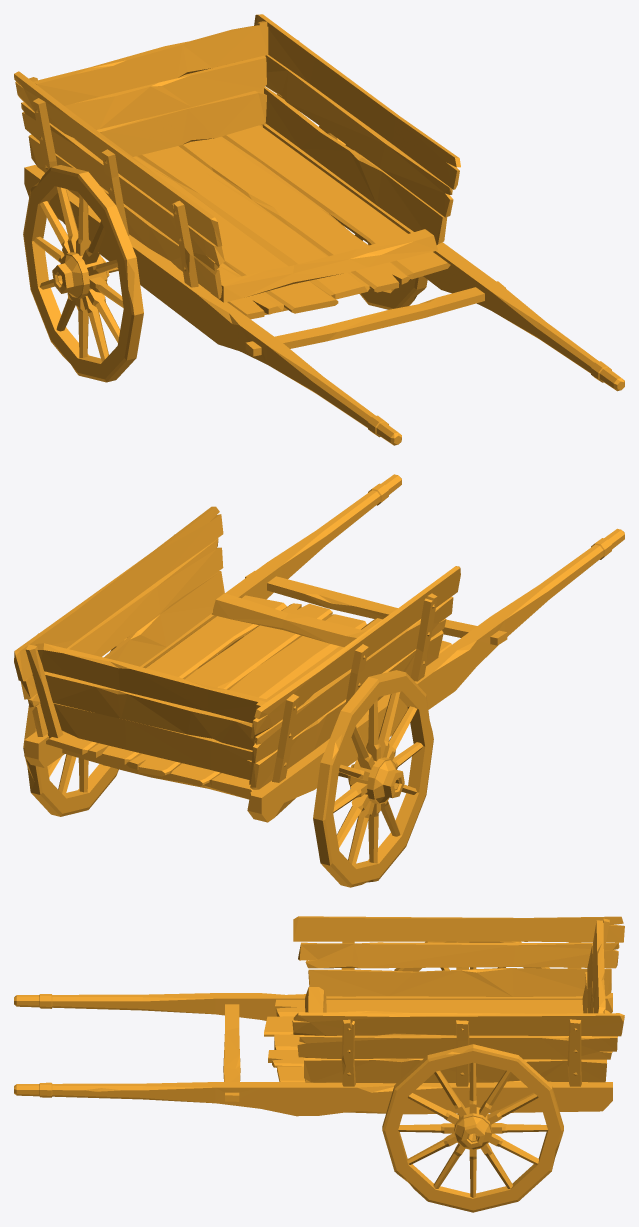
Rendered from SM_Cart_Wooden_Small_Fantasy.fbx.
The picture shows the model from 3 angles, top to bottom: view 1: azimuth 30°, elevation 25°; view 2: azimuth 150°, elevation 25°; view 3: azimuth 270°, elevation 25°; orthographic projection. The views are drawn at different scales.
Visible parts, largest first — view 1: cart-wooden-small-base-fantasy, cart-wooden-small-sides-fantasy, cart-wooden-small-back-fantasy, cart-wooden-small-wheels-fantasy; view 2: cart-wooden-small-base-fantasy, cart-wooden-small-sides-fantasy, cart-wooden-small-wheels-fantasy, cart-wooden-small-back-fantasy; view 3: cart-wooden-small-sides-fantasy, cart-wooden-small-base-fantasy, cart-wooden-small-wheels-fantasy, cart-wooden-small-back-fantasy.
Part boxes in pixels (x1=…): cart-wooden-small-base-fantasy: x1=24, y1=123, x2=624, y2=445; cart-wooden-small-sides-fantasy: x1=14, y1=14, x2=460, y2=298; cart-wooden-small-back-fantasy: x1=29, y1=21, x2=268, y2=156; cart-wooden-small-wheels-fantasy: x1=23, y1=125, x2=427, y2=382; cart-wooden-small-base-fantasy: x1=24, y1=474, x2=624, y2=822; cart-wooden-small-sides-fantasy: x1=14, y1=506, x2=460, y2=789; cart-wooden-small-wheels-fantasy: x1=23, y1=636, x2=433, y2=887; cart-wooden-small-back-fantasy: x1=25, y1=643, x2=268, y2=784; cart-wooden-small-sides-fantasy: x1=292, y1=916, x2=624, y2=1086; cart-wooden-small-base-fantasy: x1=14, y1=987, x2=612, y2=1116; cart-wooden-small-wheels-fantasy: x1=382, y1=941, x2=563, y2=1212; cart-wooden-small-back-fantasy: x1=582, y1=918, x2=609, y2=1082.
Size of the model in its own units: 1.89 by 1.23 by 3.62.
